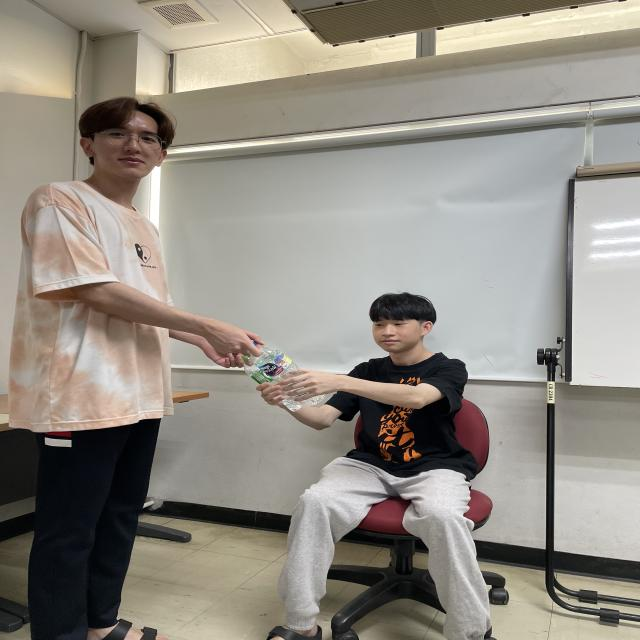bottle: (249, 341, 327, 406), (241, 354, 304, 412)
